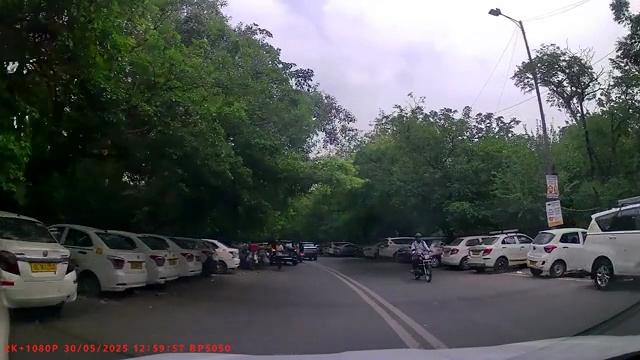motorcycle_with_helmet: (409, 231, 435, 283)
